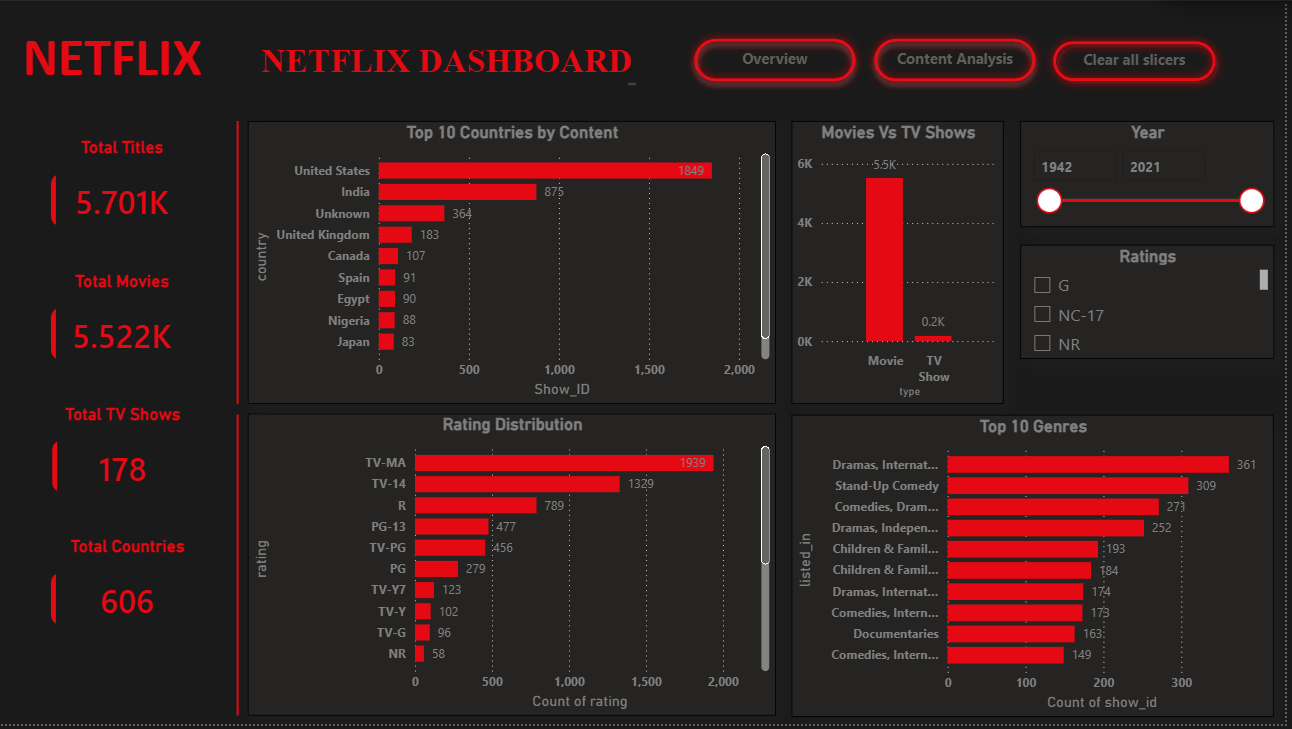

The page's visual inventory and layout, read from the dashboard file:
{"tool":"powerbi","page":{"name":"Overview","canvas":[1280,720],"ordinal":0},"visuals":[{"type":"clusteredBarChart","title":"Rating Distribution","fields":{"Category":["Netflix_data.rating"],"Y":["CountNonNull(Netflix_data.rating)"]},"box":[247,410.3,525.6,300.5],"z":0},{"type":"columnChart","title":"Movies Vs TV Shows","fields":{"Category":["Netflix_data.type"],"Y":["CountNonNull(Netflix_data.show_id)"]},"box":[789,119.4,211.3,281.3],"z":1000},{"type":"clusteredBarChart","title":"Top 10 Countries by Content","fields":{"Category":["Netflix_data.country"],"Y":["CountNonNull(Netflix_data.show_id)"]},"box":[247,119.4,525.6,281.3],"z":2000},{"type":"clusteredBarChart","title":"Top 10 Genres","fields":{"Category":["Netflix_data.listed_in"],"Y":["CountNonNull(Netflix_data.show_id)"]},"box":[789,411.7,480.3,300.5],"z":3000},{"type":"cardVisual","title":"Total Titles","fields":{"Data":["CountNonNull(Netflix_data.title)"]},"box":[34.3,135.8,175.6,107],"z":4000},{"type":"cardVisual","title":"Total Movies","fields":{"Data":["CountNonNull(Netflix_data.type)"]},"box":[34.3,269,175.6,107],"z":5000},{"type":"cardVisual","title":"Total TV Shows","fields":{"Data":["CountNonNull(Netflix_data.type)"]},"box":[35.7,400.7,174.3,107],"z":6000},{"type":"cardVisual","title":"Total Countries","fields":{"Data":["Count(Netflix_data.country)"]},"box":[34.3,532.4,186.6,107],"z":7000},{"type":"slicer","title":"Year","fields":{"Values":["Netflix_data.release_year"]},"box":[1016.8,119.4,252.5,105.7],"z":8000},{"type":"slicer","title":"Ratings","fields":{"Values":["Netflix_data.rating"]},"box":[1016.8,242.9,252.5,113.9],"z":9000},{"type":"textbox","title":"NETFLIX","box":[19.2,23.3,218.2,71.4],"z":10000},{"type":"shape","box":[205.8,119.4,64.5,281.3],"z":11000},{"type":"shape","box":[205.8,411.7,64.5,299.1],"z":12000},{"type":"textbox","title":"NETFLIX DASHBOARD","box":[256.6,39.8,382.8,49.4],"z":13000},{"type":"actionButton","box":[683.4,28.8,178.4,60.4],"z":14000},{"type":"actionButton","box":[861.8,28.8,178.4,60.4],"z":15000},{"type":"actionButton","box":[1040.1,31.6,179.8,57.6],"z":15001}]}

Visuals, with their boxes in screenshot pixels (x1, y1, x2, y2), scaled from the page's 1280x720 canvas onto the 1292x729 screenshot:
"Rating Distribution" clusteredBarChart: detection(249, 415, 780, 720)
"Movies Vs TV Shows" columnChart: detection(796, 121, 1010, 406)
"Top 10 Countries by Content" clusteredBarChart: detection(249, 121, 780, 406)
"Top 10 Genres" clusteredBarChart: detection(796, 417, 1281, 721)
"Total Titles" cardVisual: detection(35, 137, 212, 246)
"Total Movies" cardVisual: detection(35, 272, 212, 381)
"Total TV Shows" cardVisual: detection(36, 406, 212, 514)
"Total Countries" cardVisual: detection(35, 539, 223, 647)
"Year" slicer: detection(1026, 121, 1281, 228)
"Ratings" slicer: detection(1026, 246, 1281, 361)
"NETFLIX" textbox: detection(19, 24, 240, 96)
shape: detection(208, 121, 273, 406)
shape: detection(208, 417, 273, 720)
"NETFLIX DASHBOARD" textbox: detection(259, 40, 645, 90)
actionButton: detection(690, 29, 870, 90)
actionButton: detection(870, 29, 1050, 90)
actionButton: detection(1050, 32, 1231, 90)
